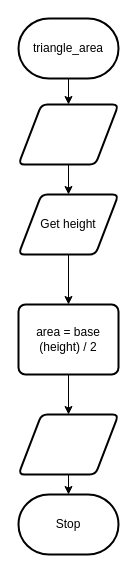
Some shapes in this 136 by 572 pixel diagram are drawn without their labels. The shapes that lost their labels are listed below. From the top down, each one's centre as x and y in pixels, then its label:
point (68, 134): Get base
point (68, 444): print "area"
